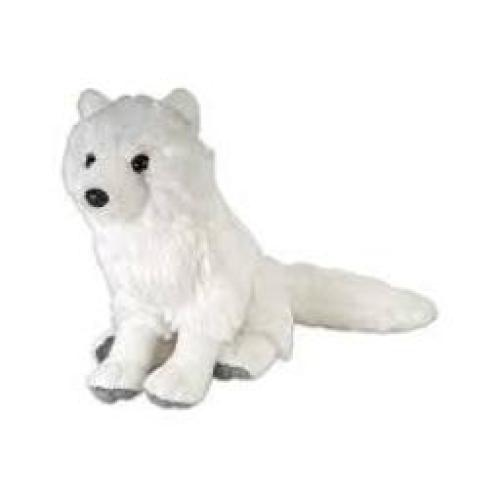arctic_fox-endangered: (60, 84, 438, 413)
